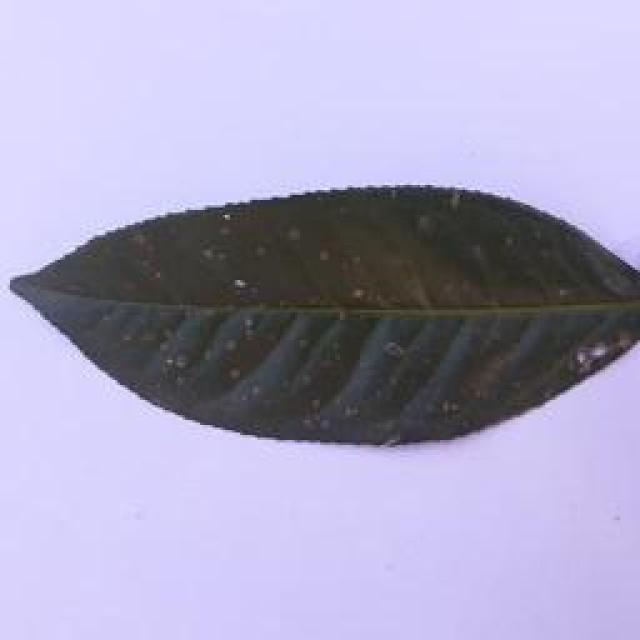Algal Leaf Spot: (10, 170, 640, 443)
